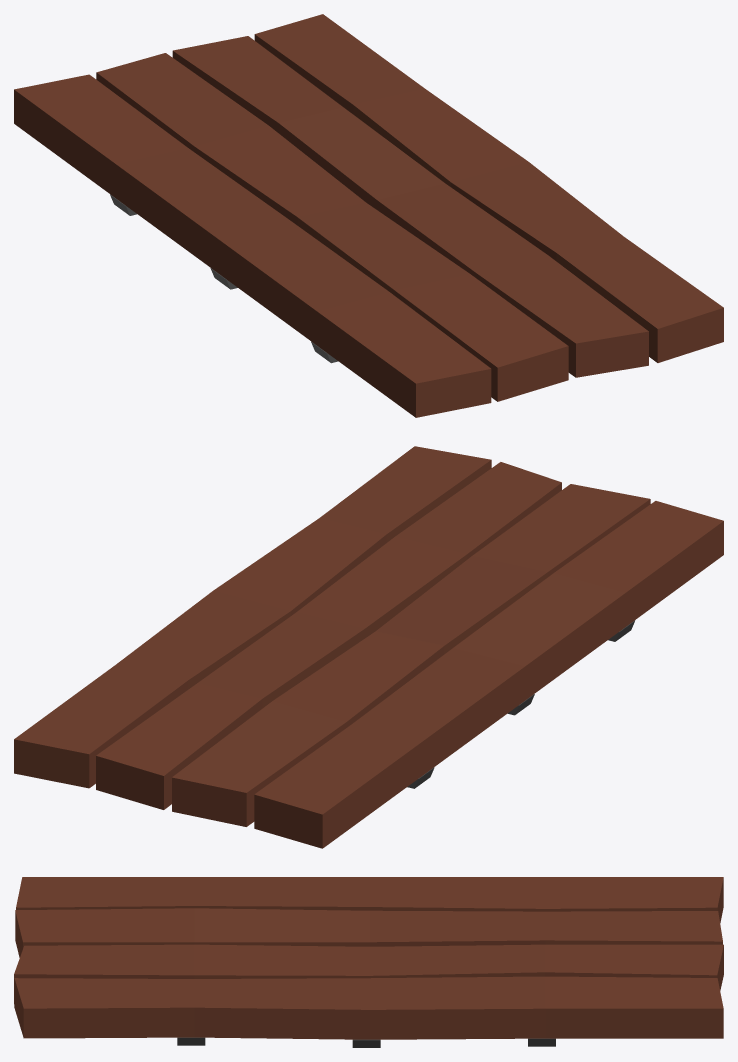
The model's file is WoodWalkway(S).fbx.
3 renders of one model, top to bottom at view 1: azimuth 30°, elevation 25°; view 2: azimuth 150°, elevation 25°; view 3: azimuth 270°, elevation 25°, orthographic. The views are drawn at different scales.
Visible parts, largest first — view 1: Cube; view 2: Cube; view 3: Cube.
Boxes of the visible parts, x1=… form: Cube: x1=14, y1=14, x2=723, y2=417; Cube: x1=14, y1=446, x2=723, y2=848; Cube: x1=14, y1=877, x2=723, y2=1047.
Size of the model in its own units: 270 by 39.37 by 609.
